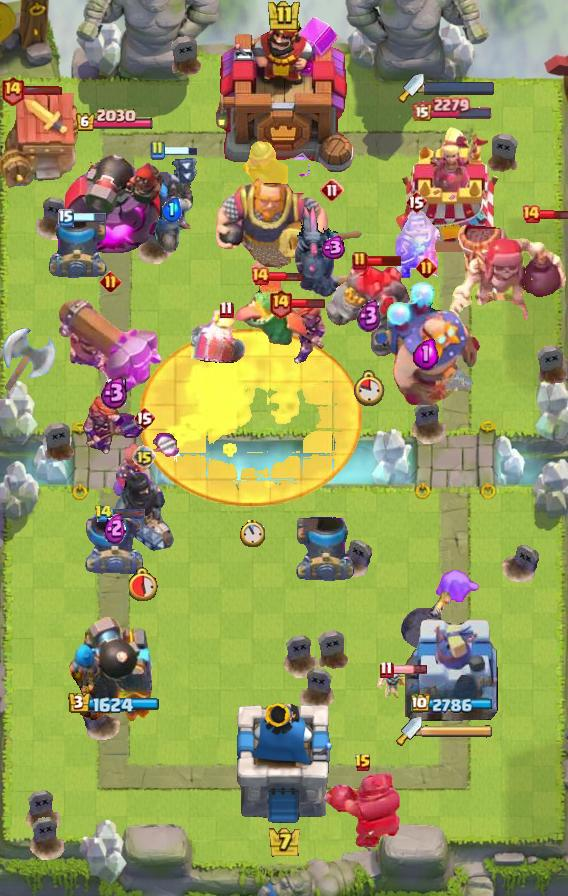baby-dragon: (400, 589, 452, 651)
bar: (394, 126, 512, 256), (405, 611, 501, 731)
bomb-tower: (240, 141, 288, 203)
cannoneer-tower: (323, 259, 415, 359)
electro-giant: (448, 216, 568, 326)
electro-spirit: (99, 375, 128, 409), (413, 337, 439, 370), (357, 300, 382, 333), (104, 512, 126, 545), (318, 237, 346, 260), (162, 197, 183, 223)
electro-wizard: (232, 276, 312, 348)
elixir: (354, 370, 385, 406), (129, 567, 159, 601), (240, 519, 264, 547)
emote: (13, 84, 63, 95), (365, 254, 402, 267), (71, 212, 107, 224), (290, 297, 325, 309), (391, 665, 429, 676), (268, 271, 304, 282), (110, 509, 146, 520), (162, 145, 197, 156), (540, 207, 568, 220)
firecracker-evolution: (392, 210, 439, 278)
furnace: (56, 296, 164, 396)
giant-skeleton: (214, 173, 330, 273)
golemite: (295, 205, 369, 299)
heal-spirit: (376, 667, 414, 701)
inferno-dragon: (142, 154, 200, 254), (112, 471, 176, 554)
king-tower: (211, 7, 357, 181), (235, 703, 333, 826)
king-tower-bar: (424, 81, 496, 95), (422, 724, 494, 738)
little-prince: (372, 281, 480, 407)
mirror: (431, 570, 481, 608)
mortar-evolution: (191, 310, 261, 368)
musketeer: (47, 214, 107, 278), (85, 510, 145, 574), (296, 517, 356, 581)
phoenix-egg: (140, 329, 364, 507)
royal-giant: (0, 325, 58, 397)
royal-guardian: (321, 770, 405, 852)
selected: (68, 691, 160, 715), (412, 96, 494, 121), (74, 108, 154, 133), (411, 693, 495, 714)
sparky: (0, 92, 86, 190)
tesla-evolution: (109, 431, 178, 505), (82, 393, 146, 457), (268, 299, 328, 367)
text: (268, 289, 293, 320), (0, 74, 24, 105), (320, 178, 344, 202), (132, 445, 156, 469), (405, 190, 427, 214), (133, 406, 155, 430), (415, 257, 437, 279), (99, 271, 121, 293), (521, 204, 541, 224), (250, 266, 270, 286), (95, 505, 114, 524), (354, 753, 372, 773), (149, 140, 165, 160), (352, 251, 368, 271), (58, 209, 74, 227), (218, 301, 233, 319), (378, 661, 393, 679)
tower-bar: (64, 138, 164, 256), (64, 615, 164, 731)
